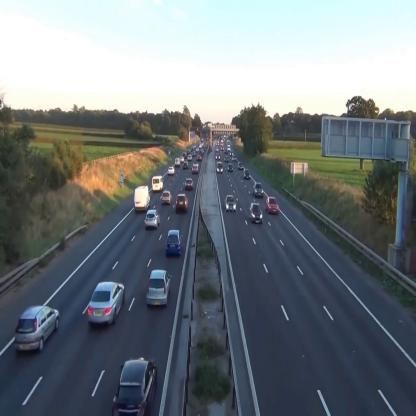car: (112, 356, 158, 416), (14, 304, 60, 352), (87, 282, 126, 328), (146, 268, 172, 309), (166, 229, 183, 258), (144, 209, 160, 230), (249, 203, 263, 223), (176, 194, 188, 213), (266, 197, 279, 214), (225, 196, 236, 212), (253, 182, 263, 198), (161, 191, 172, 205), (185, 178, 193, 190), (168, 166, 175, 174)
lorry: (134, 186, 151, 212), (152, 176, 163, 191)
